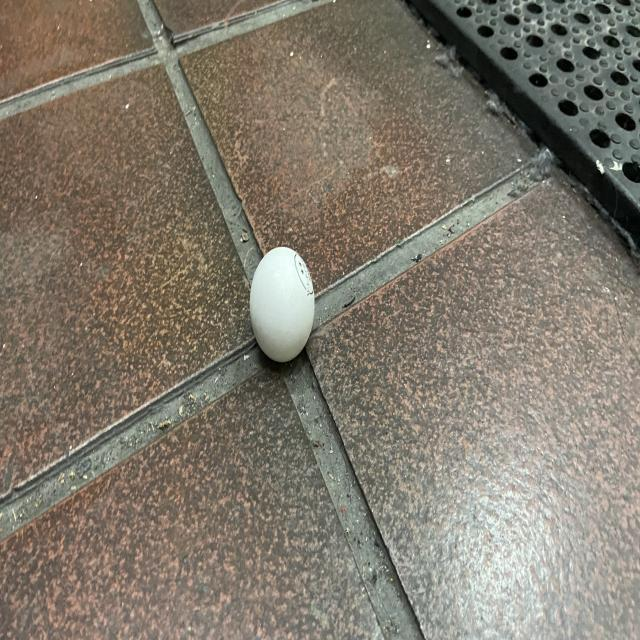ping-pong-ball: (246, 242, 317, 368)
